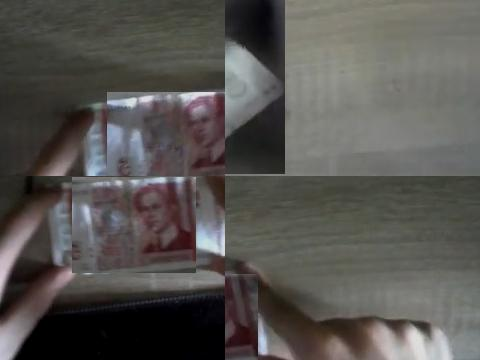5leva: (72, 177, 196, 273), (107, 92, 225, 176), (225, 275, 258, 360)
